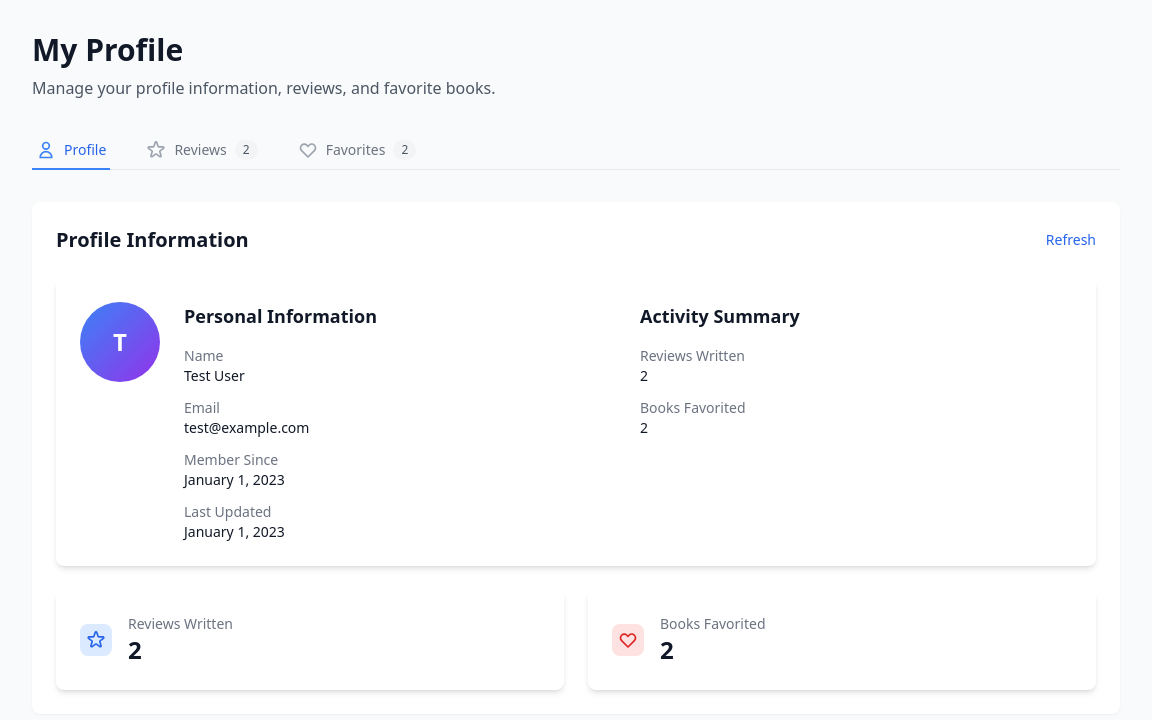
Test case: User Profile Workflow Integration Tests › Reviews Management Workflow › should display user's reviews
The width and height of the screenshot is (1152, 720).
// Switch to reviews tab
Click the button "Reviews 2".
click(202, 151)  # box [142,132,262,170]
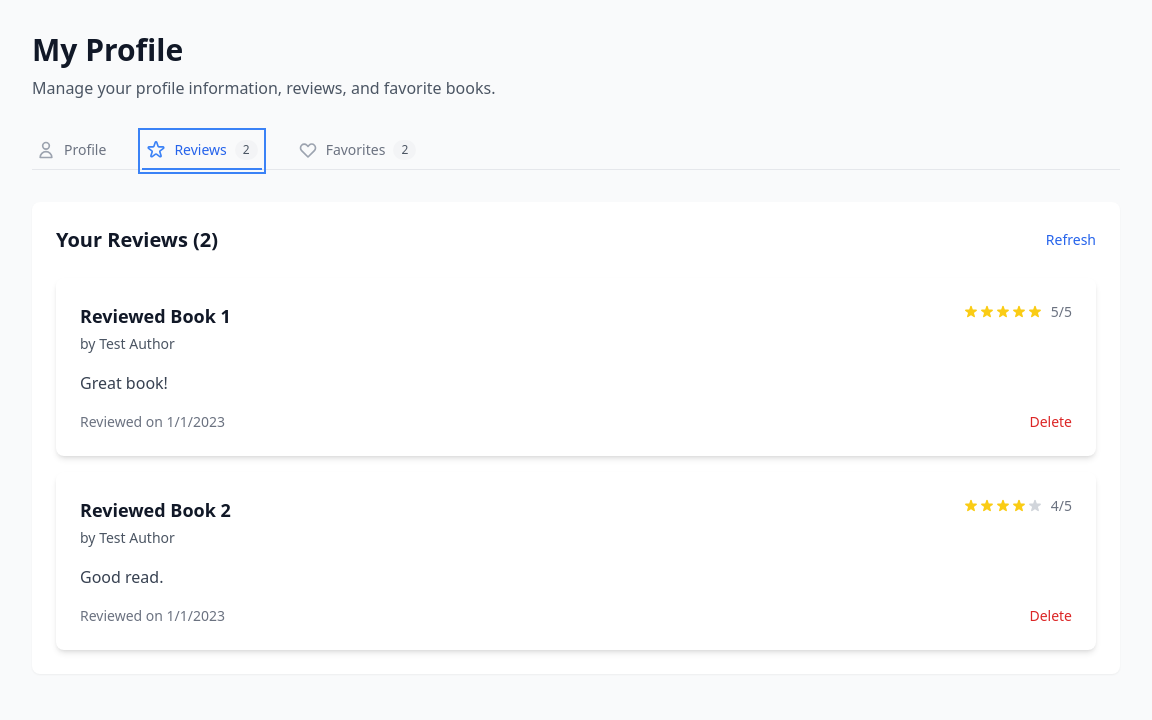
Expected: the text "Great book!" is shown, [80,372,168,394]
Expected: the text "Good read." is shown, [80,566,163,588]
Expected: the link "Reviewed Book 1" is shown, [80,304,231,328]
